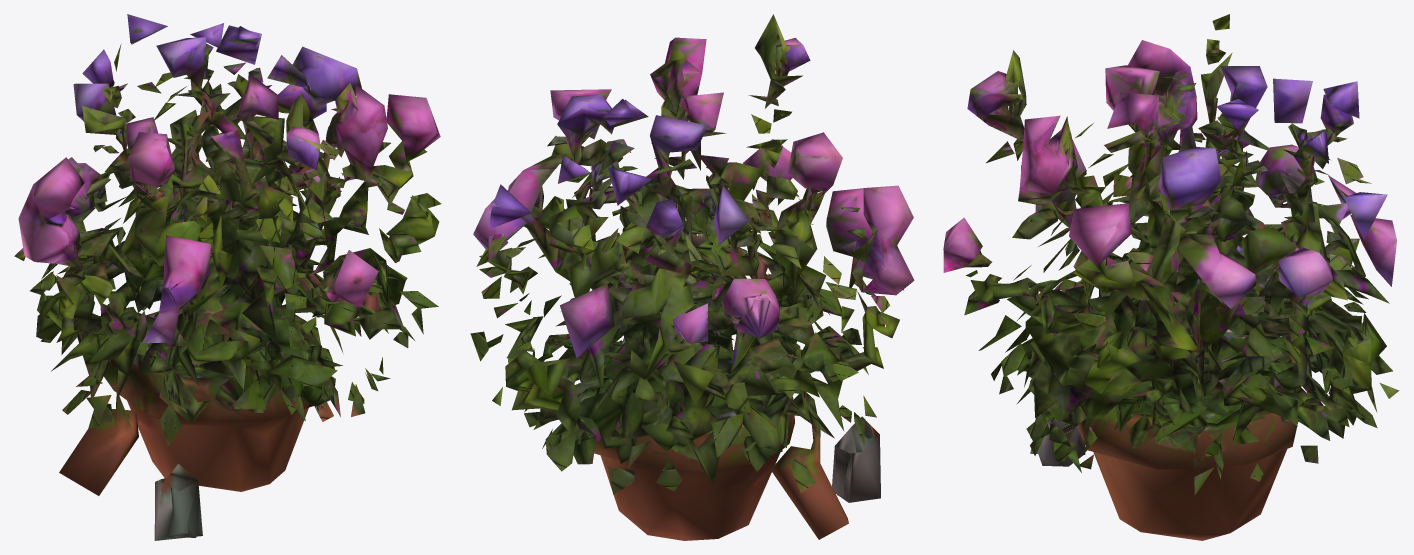
File: hydrangea.glb
3 views of the same model, side by side, from view 1: azimuth 30°, elevation 25°; view 2: azimuth 150°, elevation 25°; view 3: azimuth 270°, elevation 25° (orthographic). The views are drawn at different scales.
Size of the model in its own units: 1.85 by 1.97 by 1.77.
1 material, 1 textured.
